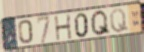0: (17, 19, 35, 45), (73, 12, 90, 39)
7: (36, 14, 52, 45)
H: (53, 13, 73, 43)
Q: (90, 9, 112, 37), (109, 7, 130, 34)
